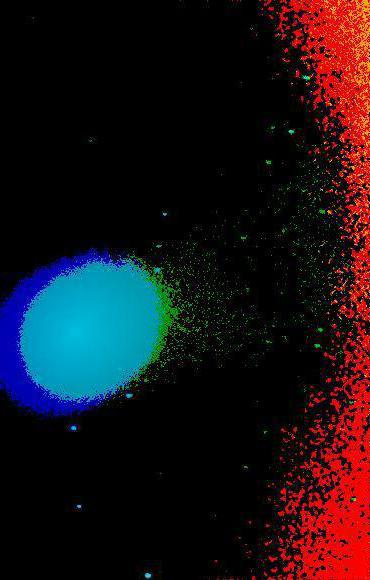star: (129, 365, 159, 395)
